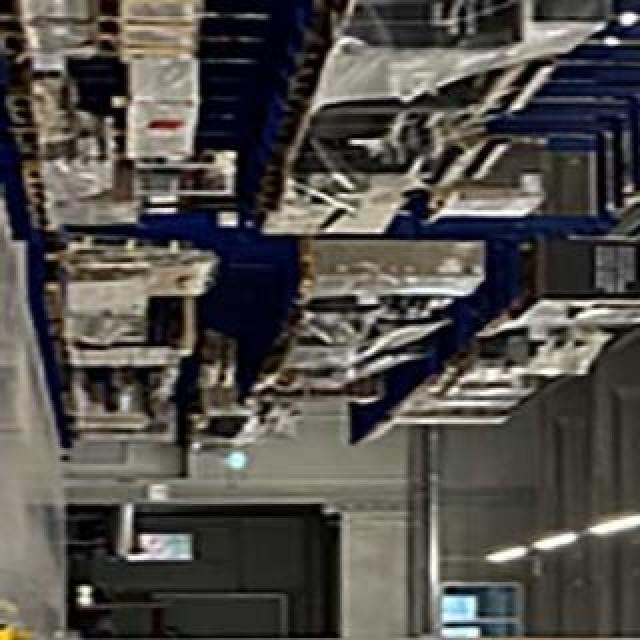fluorescent tube: (584, 506, 640, 540), (525, 526, 580, 558), (480, 542, 529, 571)
